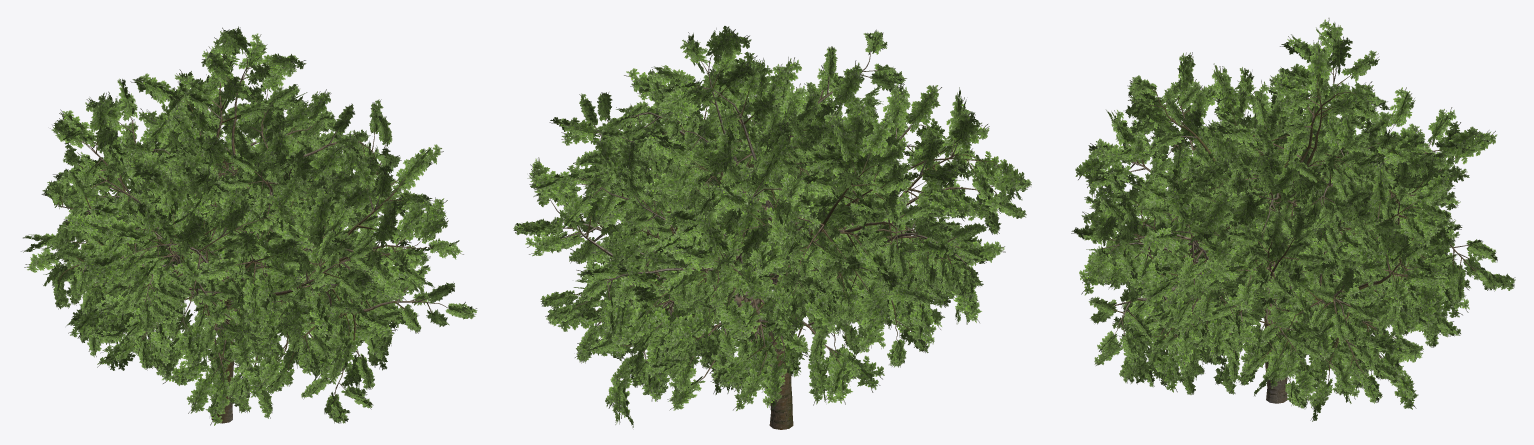
The model's file is acacias.glb.
3 renders of one model, left to right at view 1: azimuth 30°, elevation 25°; view 2: azimuth 150°, elevation 25°; view 3: azimuth 270°, elevation 25°, orthographic. The views are drawn at different scales.
Parts seen in each view (by area): view 1: acacia0_far_leaves, acacia1_far_leaves, acacia2_far_leaves, acacia2_leaves, acacia1_leaves, acacia0_leaves, acacia0_far_bark, acacia2_bark, acacia2_far_bark, acacia0_bark, acacia1_far_bark, acacia1_bark; view 2: acacia1_far_leaves, acacia0_far_leaves, acacia2_far_leaves, acacia0_leaves, acacia1_leaves, acacia2_leaves, acacia0_far_bark, acacia0_bark, acacia1_far_bark, acacia2_far_bark, acacia1_bark, acacia2_bark; view 3: acacia0_far_leaves, acacia1_far_leaves, acacia2_far_leaves, acacia0_leaves, acacia1_leaves, acacia2_leaves, acacia0_far_bark, acacia0_bark, acacia1_bark, acacia2_bark, acacia1_far_bark, acacia2_far_bark.
Part boxes in pixels (bbox=[...]): acacia0_far_leaves: bbox=[21, 26, 438, 413]; acacia1_far_leaves: bbox=[58, 45, 448, 425]; acacia2_far_leaves: bbox=[59, 73, 463, 397]; acacia2_leaves: bbox=[52, 74, 477, 423]; acacia1_leaves: bbox=[62, 98, 376, 370]; acacia0_leaves: bbox=[46, 82, 401, 418]; acacia0_far_bark: bbox=[68, 49, 405, 422]; acacia2_bark: bbox=[58, 108, 447, 420]; acacia2_far_bark: bbox=[94, 94, 433, 421]; acacia0_bark: bbox=[58, 93, 378, 423]; acacia1_far_bark: bbox=[94, 54, 424, 417]; acacia1_bark: bbox=[78, 136, 338, 422]; acacia1_far_leaves: bbox=[527, 57, 1009, 410]; acacia0_far_leaves: bbox=[521, 26, 959, 427]; acacia2_far_leaves: bbox=[549, 61, 1025, 410]; acacia0_leaves: bbox=[540, 69, 961, 387]; acacia1_leaves: bbox=[513, 29, 1031, 378]; acacia2_leaves: bbox=[595, 92, 987, 382]; acacia0_far_bark: bbox=[550, 53, 931, 429]; acacia0_bark: bbox=[567, 112, 915, 429]; acacia1_far_bark: bbox=[572, 87, 977, 429]; acacia2_far_bark: bbox=[593, 126, 1000, 428]; acacia1_bark: bbox=[550, 51, 1001, 429]; acacia2_bark: bbox=[604, 115, 969, 428]; acacia0_far_leaves: bbox=[1075, 18, 1469, 421]; acacia1_far_leaves: bbox=[1079, 63, 1482, 369]; acacia2_far_leaves: bbox=[1071, 52, 1497, 404]; acacia0_leaves: bbox=[1084, 77, 1515, 409]; acacia1_leaves: bbox=[1115, 47, 1423, 403]; acacia2_leaves: bbox=[1088, 112, 1454, 394]; acacia0_far_bark: bbox=[1128, 66, 1414, 399]; acacia0_bark: bbox=[1139, 132, 1486, 402]; acacia1_bark: bbox=[1146, 80, 1396, 402]; acacia2_bark: bbox=[1112, 155, 1423, 403]; acacia1_far_bark: bbox=[1101, 92, 1445, 399]; acacia2_far_bark: bbox=[1097, 83, 1457, 403].
Bounding box in the file's own units: 18.44 × 16.61 × 17.96.
Materials: 2 (2 with a texture image).
